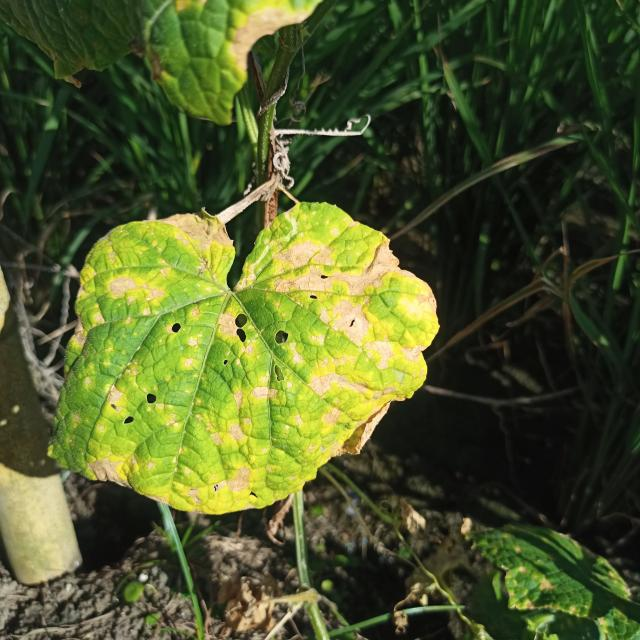disease_cucumber: (53, 204, 428, 505)
